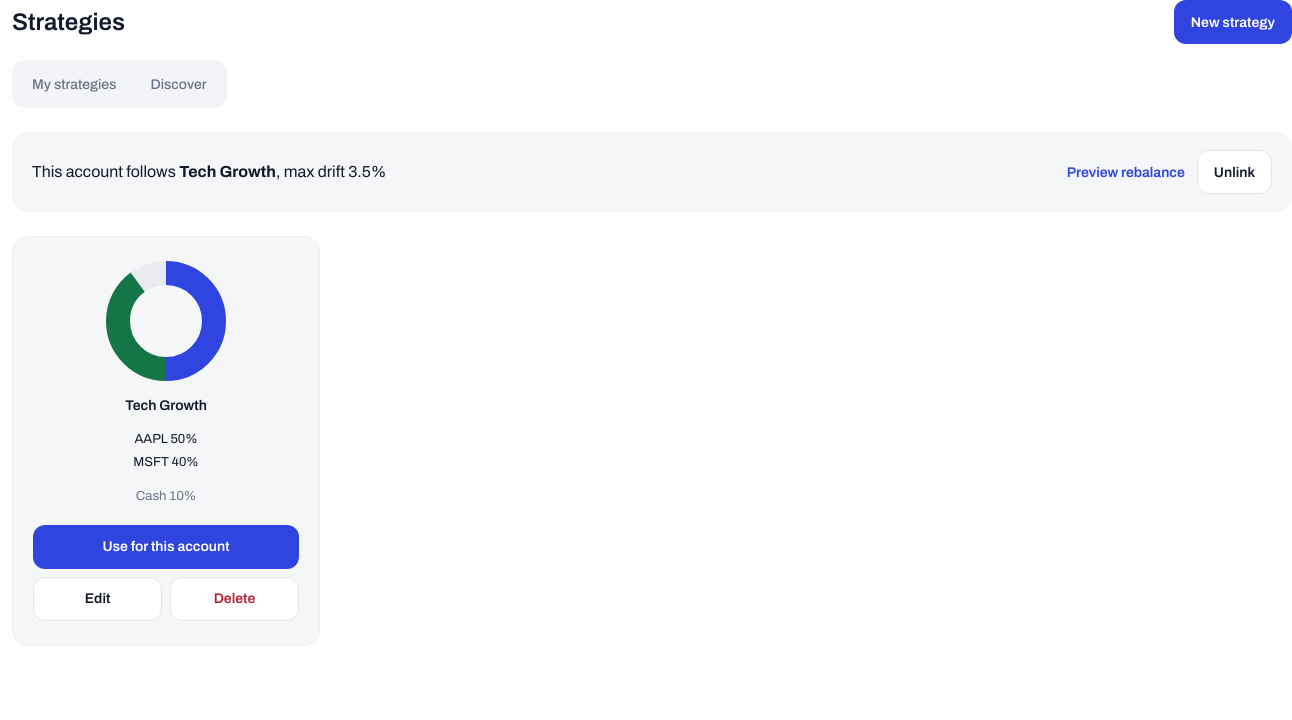
Test: PiesComponent › explains a 409 on delete
The image size is (1292, 720).
What coordinates should you click on to do the following:
click the button "Delete"
I would click on:
 (234, 599)
Its box is [170,577,299,621].
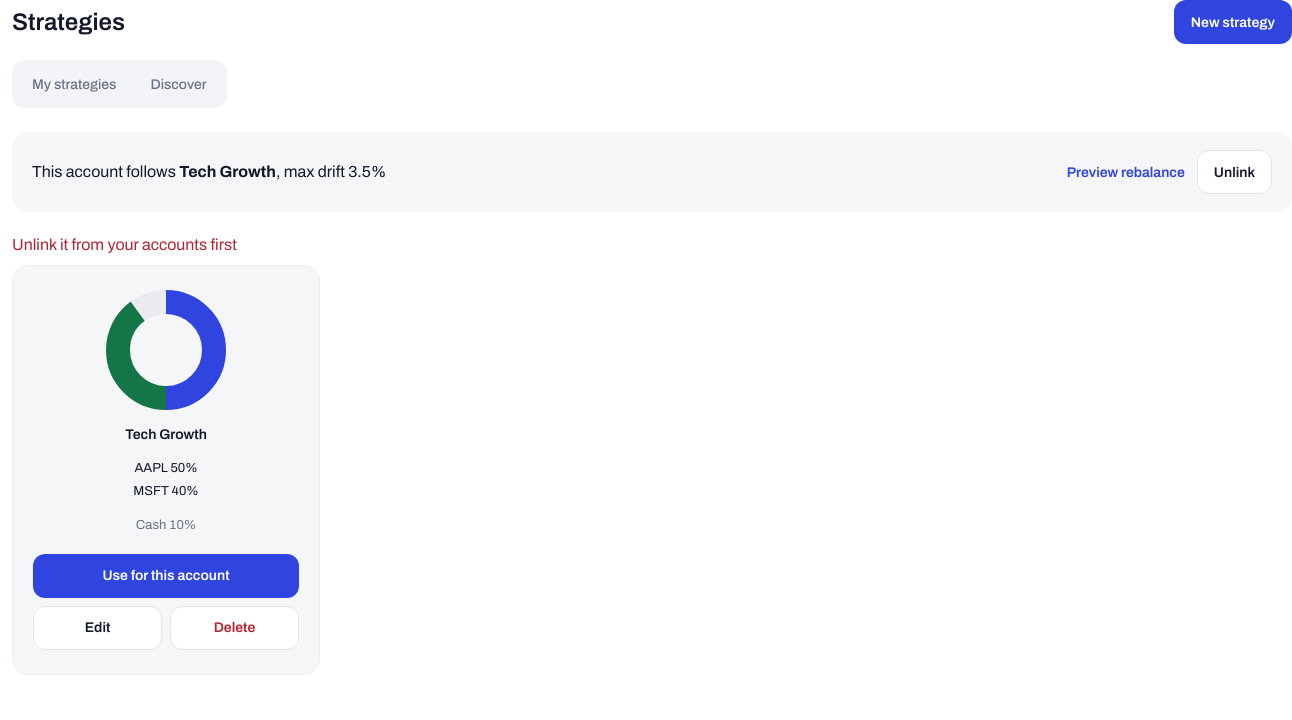
Check: the list item is shown, box [12,265,320,675]
Check: the message "Unlink it from your accounts first" is shown, box [12,236,237,253]
